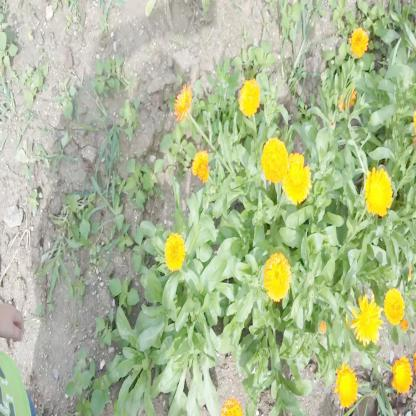marigold: (349, 294, 382, 342), (264, 252, 292, 303), (366, 168, 392, 216), (284, 157, 310, 202), (262, 137, 288, 182), (392, 350, 414, 393), (164, 234, 186, 272), (384, 287, 404, 327), (239, 80, 260, 118), (338, 368, 359, 404), (174, 84, 194, 120), (191, 147, 211, 182), (348, 28, 369, 56)
